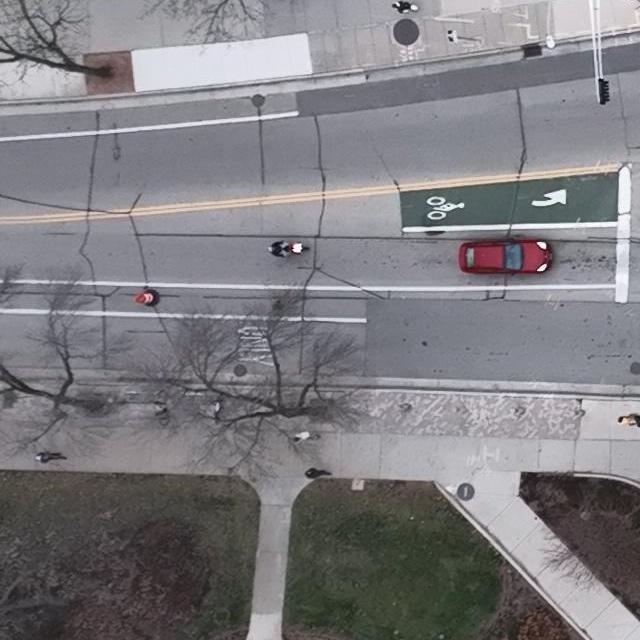car: (459, 236, 554, 276)
